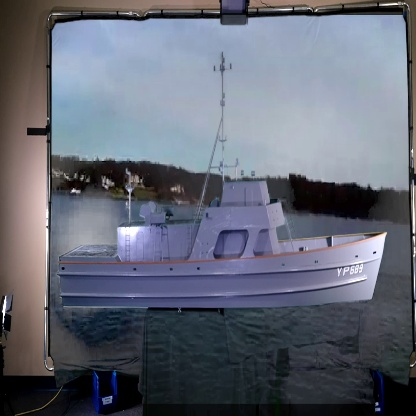YP689: (57, 46, 387, 313)
